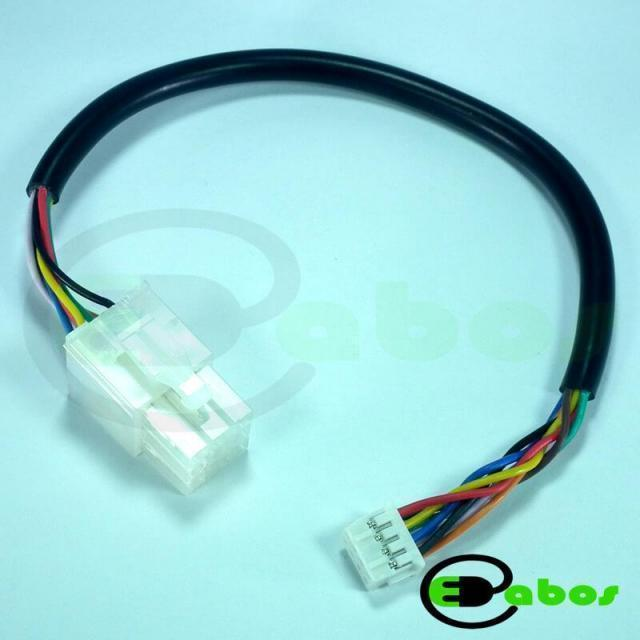cable: (220, 58, 611, 484), (28, 68, 238, 332), (413, 479, 509, 553)
connector: (65, 283, 254, 493), (342, 507, 424, 591)
